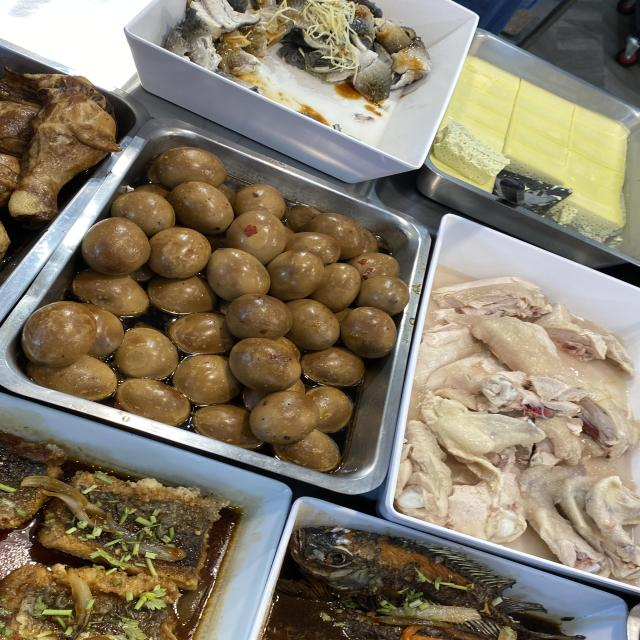braised egg: (106, 208, 363, 398)
